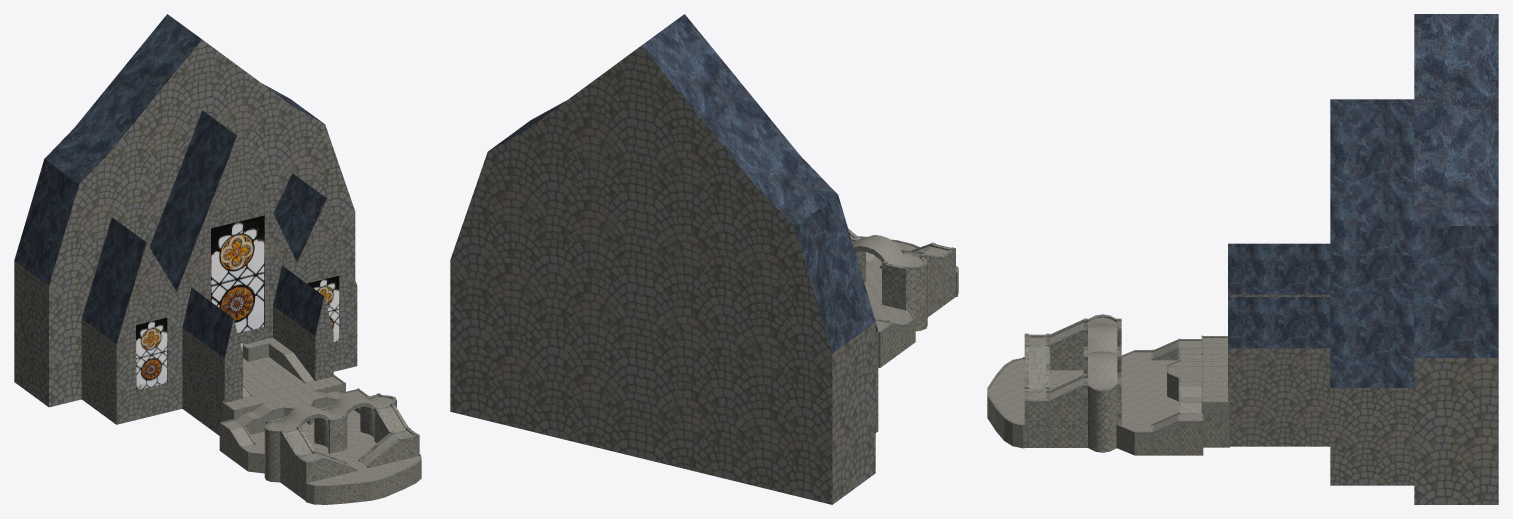
Rendered from map_castle.fbx.
The picture shows the model from 3 angles, left to right: view 1: azimuth 30°, elevation 25°; view 2: azimuth 150°, elevation 25°; view 3: azimuth 270°, elevation 25°; orthographic projection. The views are drawn at different scales.
Parts seen in each view (by area): view 1: BackdropBack, BackdropFront, Building, Gate, UpperPlatform, WindowFront, LowerFloor, WindowSide, WindowSide.001; view 2: BackdropBack, Gate, UpperPlatform, LowerFloor; view 3: BackdropBack, BackdropFront, Building, Gate, UpperPlatform, LowerFloor.
Boxes of the visible parts, <box> form: BackdropBack: <box>14,14,355,407</box>; BackdropFront: <box>81,110,357,424</box>; Building: <box>182,265,333,435</box>; Gate: <box>264,393,419,500</box>; UpperPlatform: <box>219,337,368,473</box>; WindowFront: <box>211,215,264,333</box>; LowerFloor: <box>250,410,421,504</box>; WindowSide: <box>136,317,167,390</box>; WindowSide.001: <box>308,275,339,342</box>; BackdropBack: <box>450,14,875,504</box>; Gate: <box>848,228,955,331</box>; UpperPlatform: <box>875,307,915,367</box>; LowerFloor: <box>858,236,958,321</box>; BackdropBack: <box>1414,14,1498,504</box>; BackdropFront: <box>1330,99,1414,485</box>; Building: <box>1228,243,1330,446</box>; Gate: <box>1024,314,1121,452</box>; UpperPlatform: <box>1116,335,1229,455</box>; LowerFloor: <box>987,357,1178,448</box>.
Bounding box in the file's own units: 50902 × 52508 × 60750.
